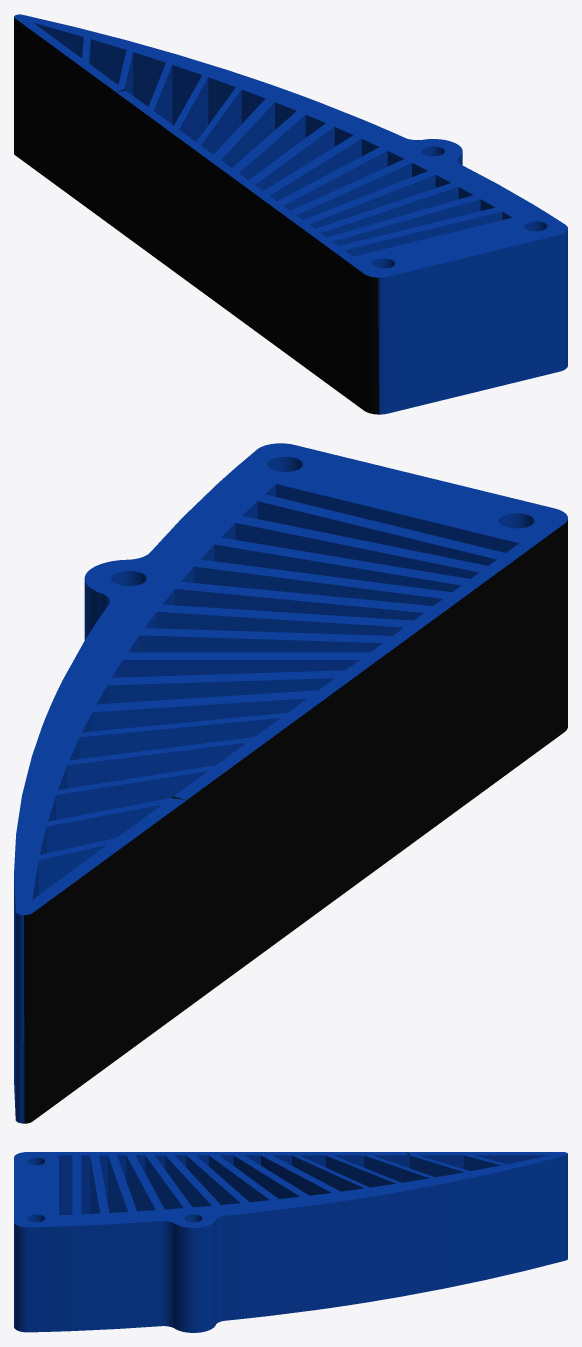
Rendered from soft_gripper_finger.obj.
3 renders of one model, top to bottom at view 1: azimuth 30°, elevation 25°; view 2: azimuth 150°, elevation 25°; view 3: azimuth 270°, elevation 25°, orthographic. The views are drawn at different scales.
Parts seen in each view (by area): view 1: soft_gripper_finger; view 2: soft_gripper_finger; view 3: soft_gripper_finger.
Boxes of the visible parts, x1=… form: soft_gripper_finger: x1=14, y1=14, x2=567, y2=414; soft_gripper_finger: x1=14, y1=443, x2=567, y2=1123; soft_gripper_finger: x1=14, y1=1152, x2=567, y2=1332.
Size of the model in its own units: 40 by 25.8 by 123.
